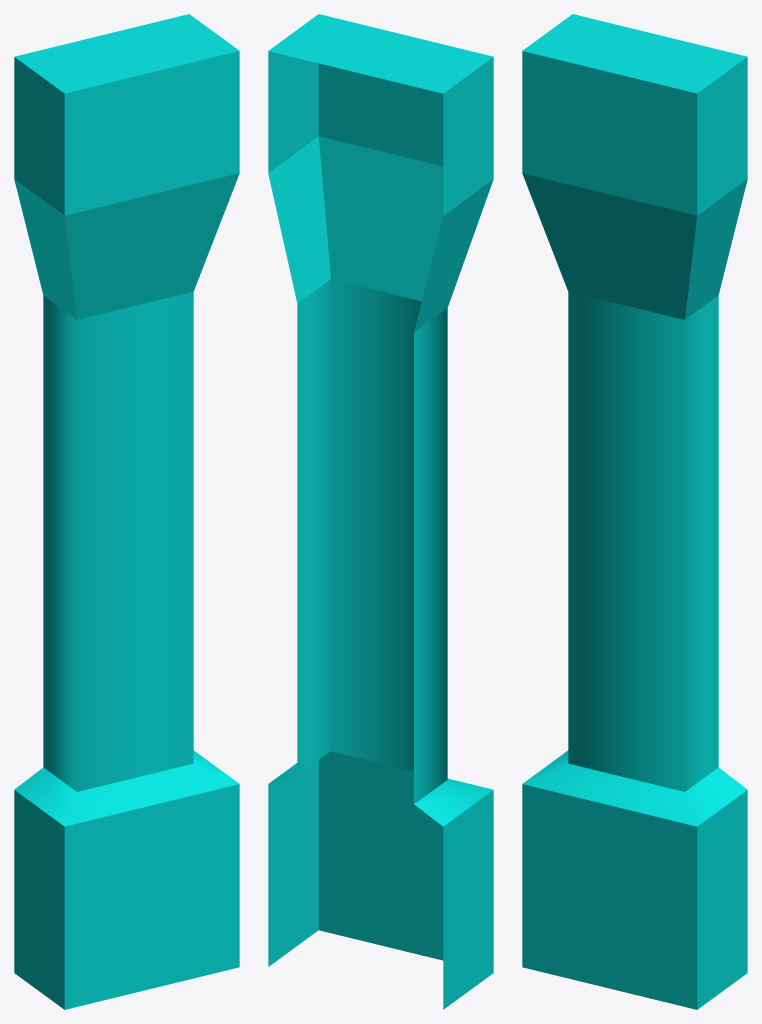
File: arch_edge.fbx
The picture shows the model from 3 angles, left to right: view 1: azimuth 30°, elevation 25°; view 2: azimuth 150°, elevation 25°; view 3: azimuth 330°, elevation 25°; orthographic projection.
Parts seen in each view (by area): view 1: arch_edge; view 2: arch_edge; view 3: arch_edge.
Part boxes in pixels (bbox=[...]): arch_edge: bbox=[14, 14, 239, 1009]; arch_edge: bbox=[268, 14, 493, 1009]; arch_edge: bbox=[522, 14, 747, 1009].
Bounding box in the file's own units: 0.6 × 3 × 0.3.
